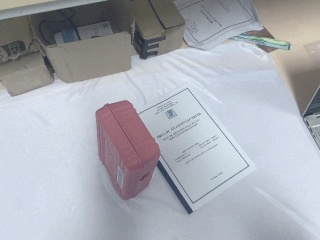box: (95, 97, 159, 207), (126, 1, 184, 59)
